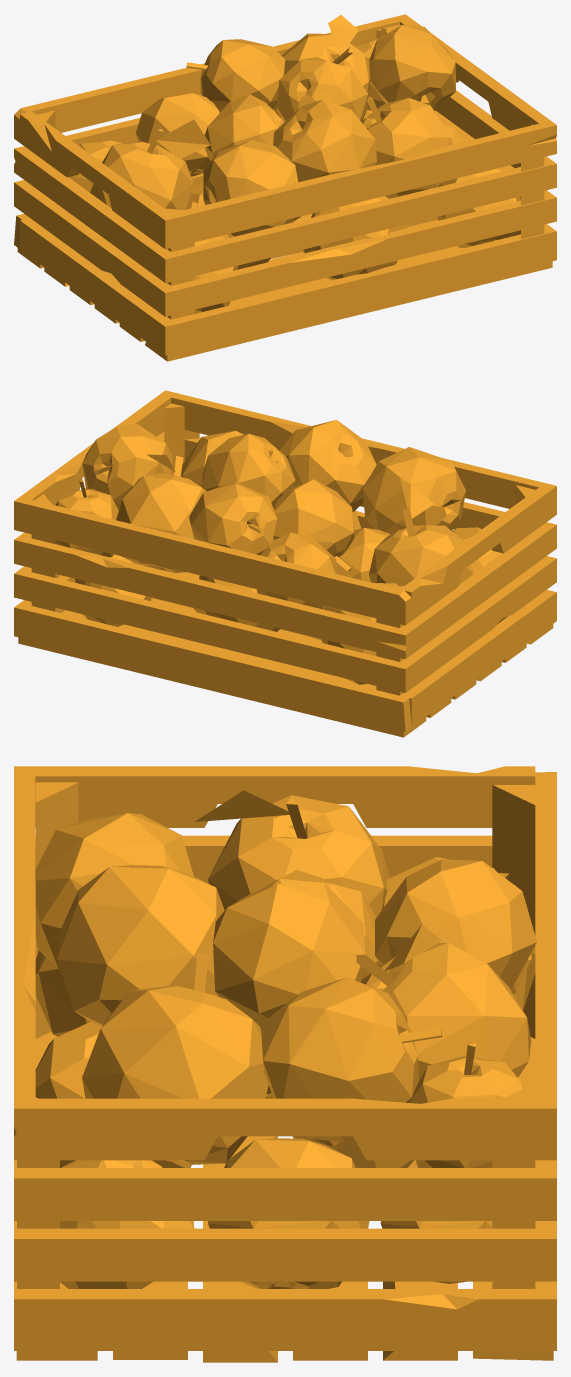
Rendered from SM_Crate_Wood_Medium_Apples_Green.fbx.
3 views of the same model, one above another, from view 1: azimuth 30°, elevation 25°; view 2: azimuth 150°, elevation 25°; view 3: azimuth 270°, elevation 25° (orthographic). The views are drawn at different scales.
Parts seen in each view (by area): view 1: crate-wood-medium-apples-green; view 2: crate-wood-medium-apples-green; view 3: crate-wood-medium-apples-green.
Boxes of the visible parts, x1=… form: crate-wood-medium-apples-green: x1=14, y1=14, x2=556, y2=361; crate-wood-medium-apples-green: x1=14, y1=390, x2=556, y2=737; crate-wood-medium-apples-green: x1=14, y1=766, x2=556, y2=1362.
Size of the model in its own units: 0.6067 by 0.2828 by 0.4063.
